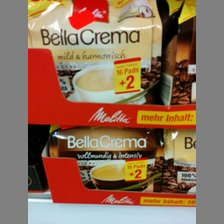coffee: (29, 1, 163, 103), (49, 125, 161, 191)
